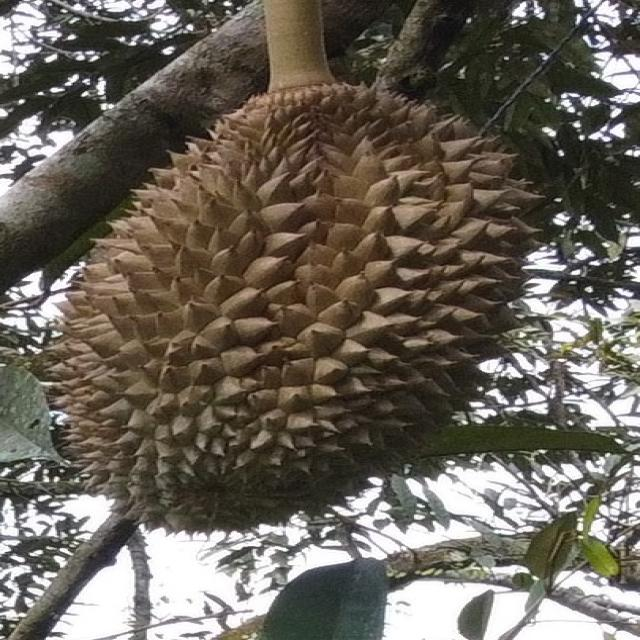mature: (47, 82, 539, 532)
